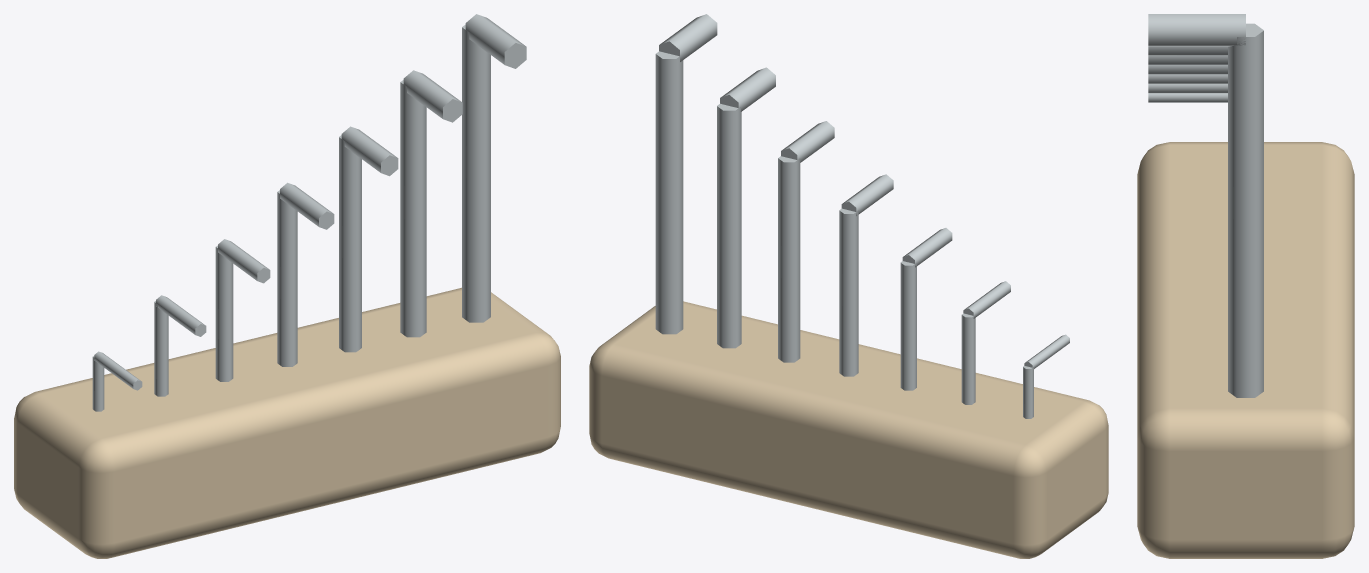
File: bicycle-shop-and-repair-cafe-hex-key-rack-14e4d01d__32407.glb
3 renders of one model, left to right at view 1: azimuth 30°, elevation 25°; view 2: azimuth 150°, elevation 25°; view 3: azimuth 270°, elevation 25°, orthographic. The views are drawn at different scales.
Visible parts, largest first — view 1: hex-key-rack; view 2: hex-key-rack; view 3: hex-key-rack.
Boxes of the visible parts, x1,y1,x2,y2 form: hex-key-rack: (14, 14, 560, 558); hex-key-rack: (589, 14, 1108, 558); hex-key-rack: (1137, 14, 1354, 558).
Bounding box in the file's own units: 0.19 × 0.16 × 0.06.
